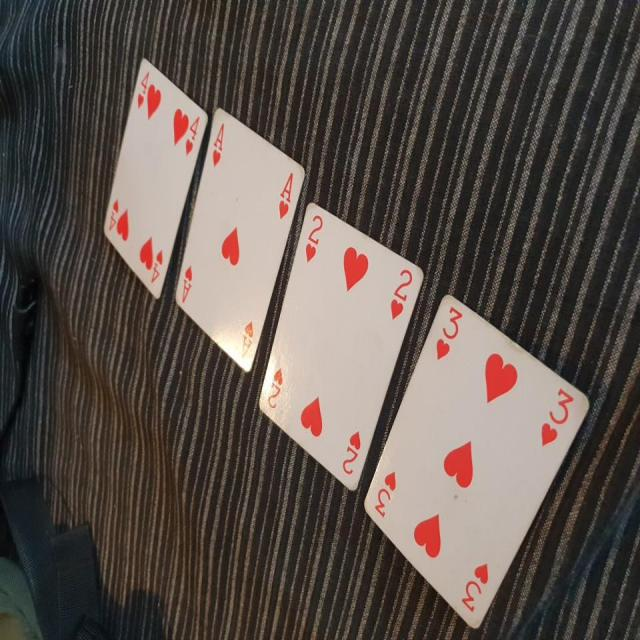2 Hearts: (248, 191, 434, 496)
3 Hearts: (350, 288, 592, 625)
4 Hearts: (102, 51, 206, 302)
A Hearts: (169, 102, 308, 385)
